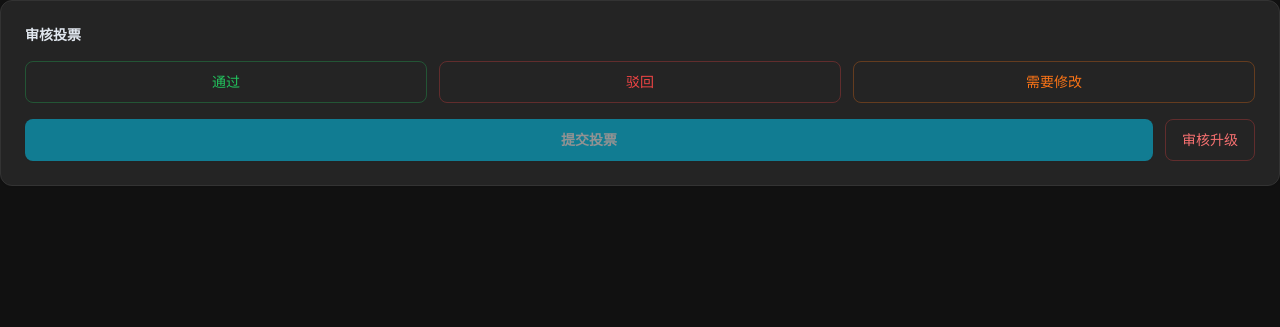
VotePanel › 选择"驳回"应显示理由输入框
The width and height of the screenshot is (1280, 327).
Click the button "驳回" at (640, 82), box [439,61,841,103]
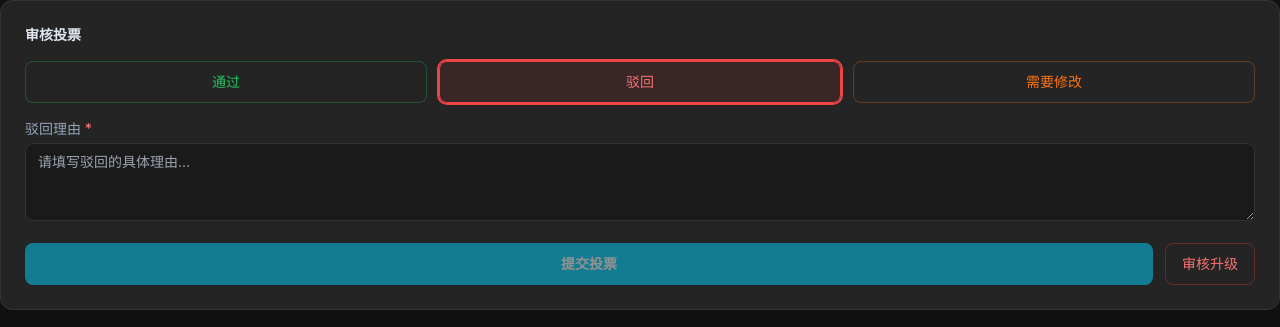
expect the text box labelled "驳回理由 *" is shown: met, box [25,143,1255,221]
